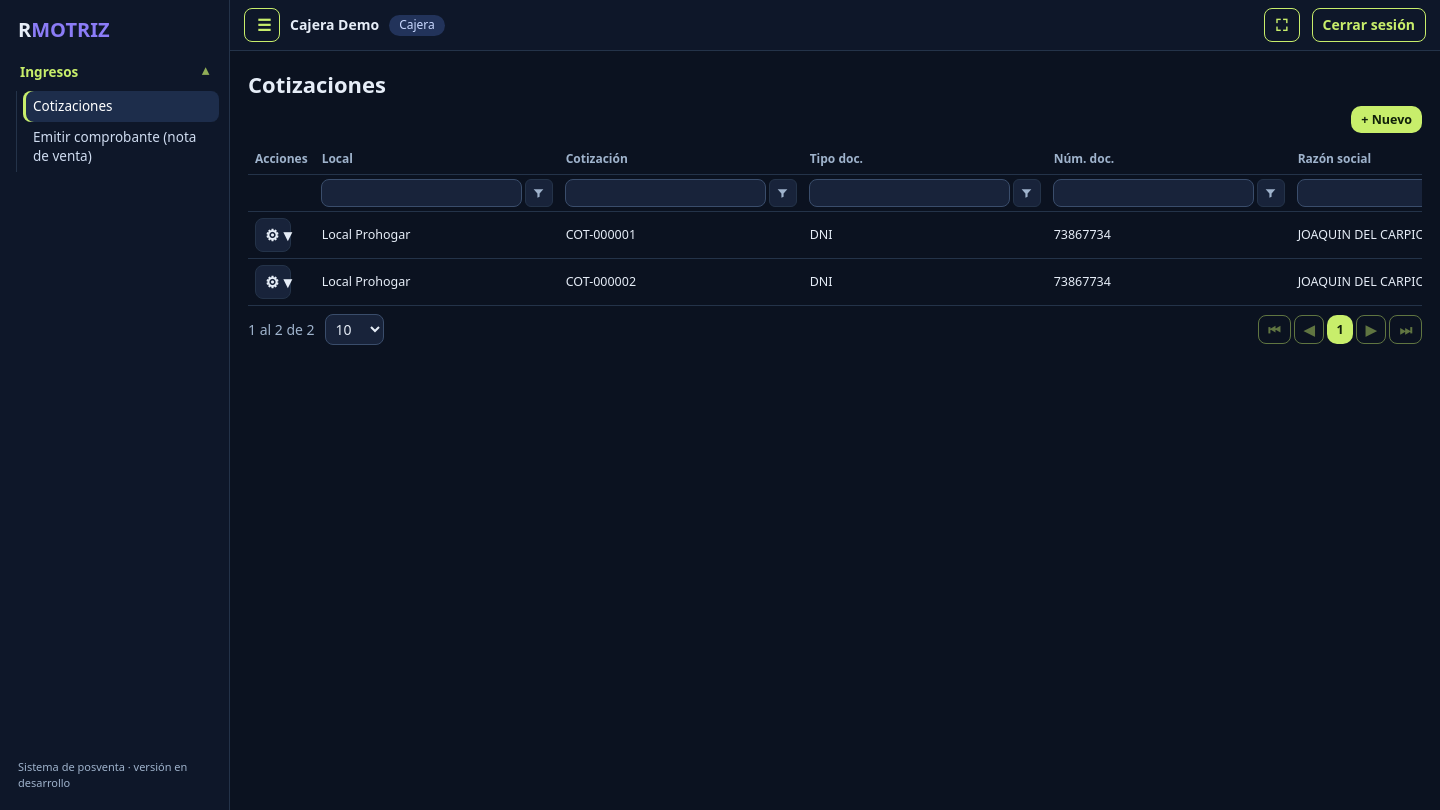
Test case: Cotizaciones: el formato es simple (sin tipo de IGV ni desglose, solo total y si los precios incluyen IGV) y el menú ofrece emitir, duplicar, editar y eliminar
The image size is (1440, 810).
Click the button named "Acciones". click: point(273, 235)
box: 255,218 -> 291,252
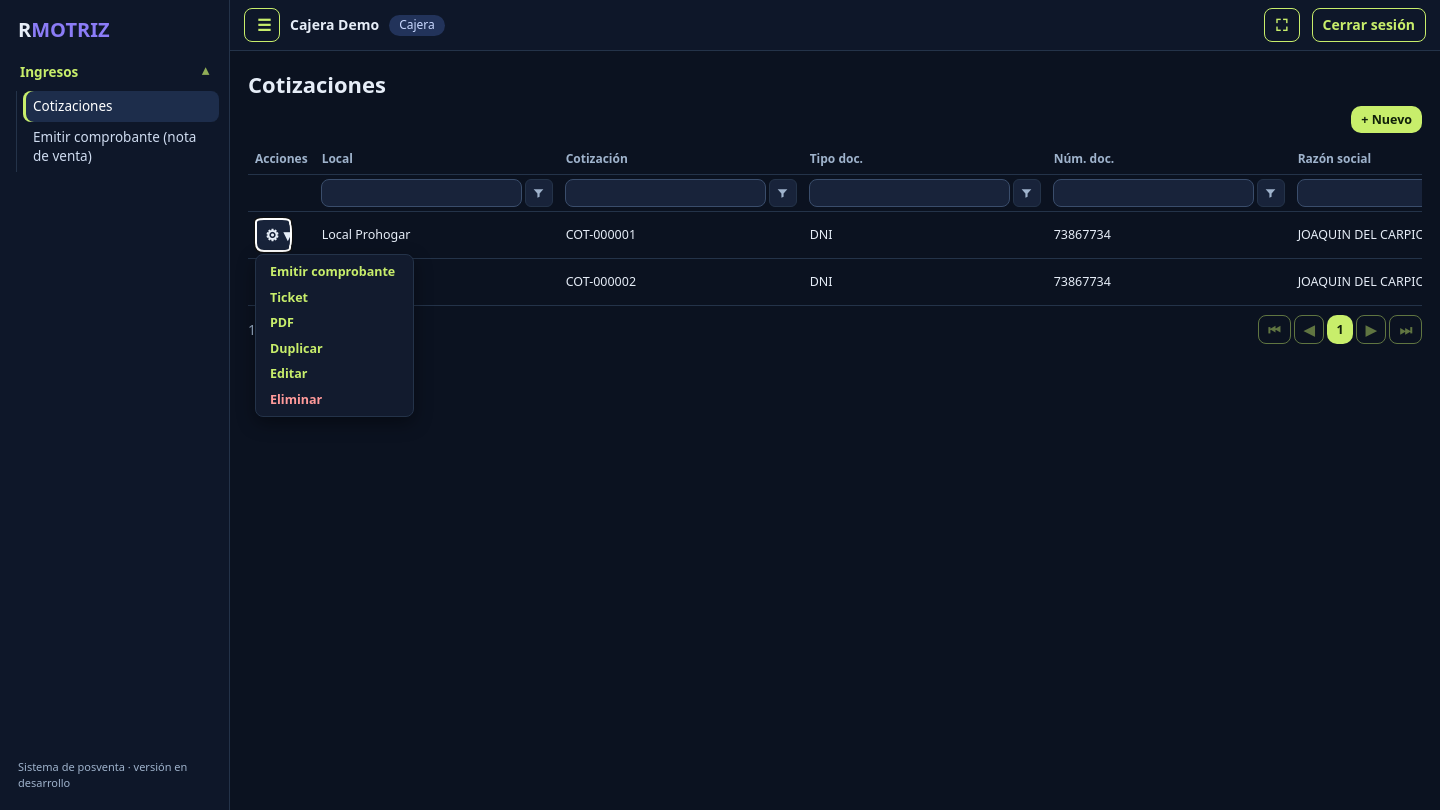
Result: the button "Emitir comprobante" is shown at 260,259 -> 405,285
Result: the button "Duplicar" is shown
Result: the button "Editar" is shown at 260,361 -> 405,387
Click the button "Duplicar". click: point(333, 348)
box: 260,336 -> 405,361
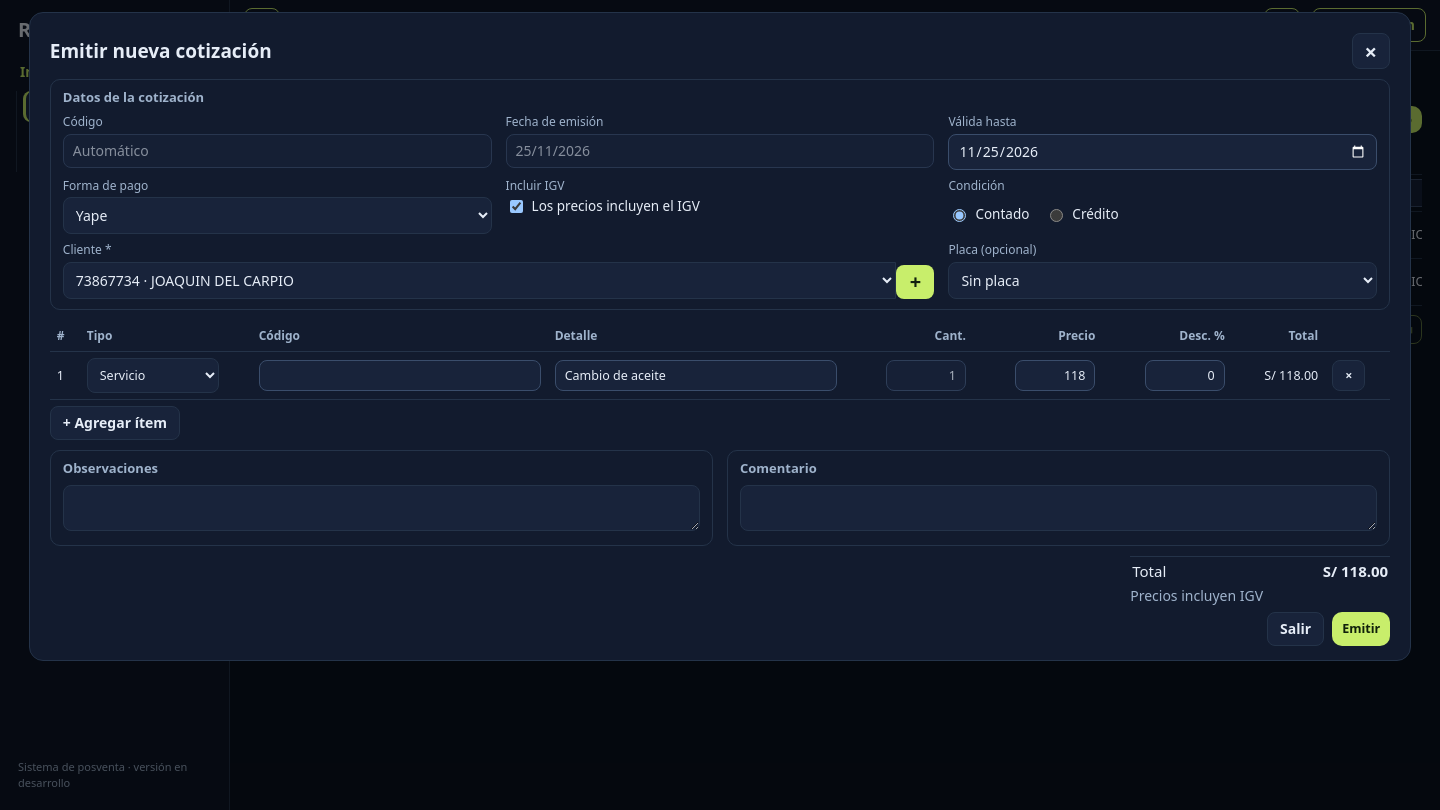
Result: the field named "Detalle del ítem 1" holds "Cambio de aceite" at 555,360 -> 837,391
Result: the element named "Totales" shows "Total S/ 118.00" at 1130,556 -> 1390,606
Result: the element named "Totales" shows "Precios incluyen IGV" at 1130,586 -> 1263,605
Click the checkbox labelled "Los precios incluyen el IGV". click: point(516, 207)
box: 510,200 -> 523,213
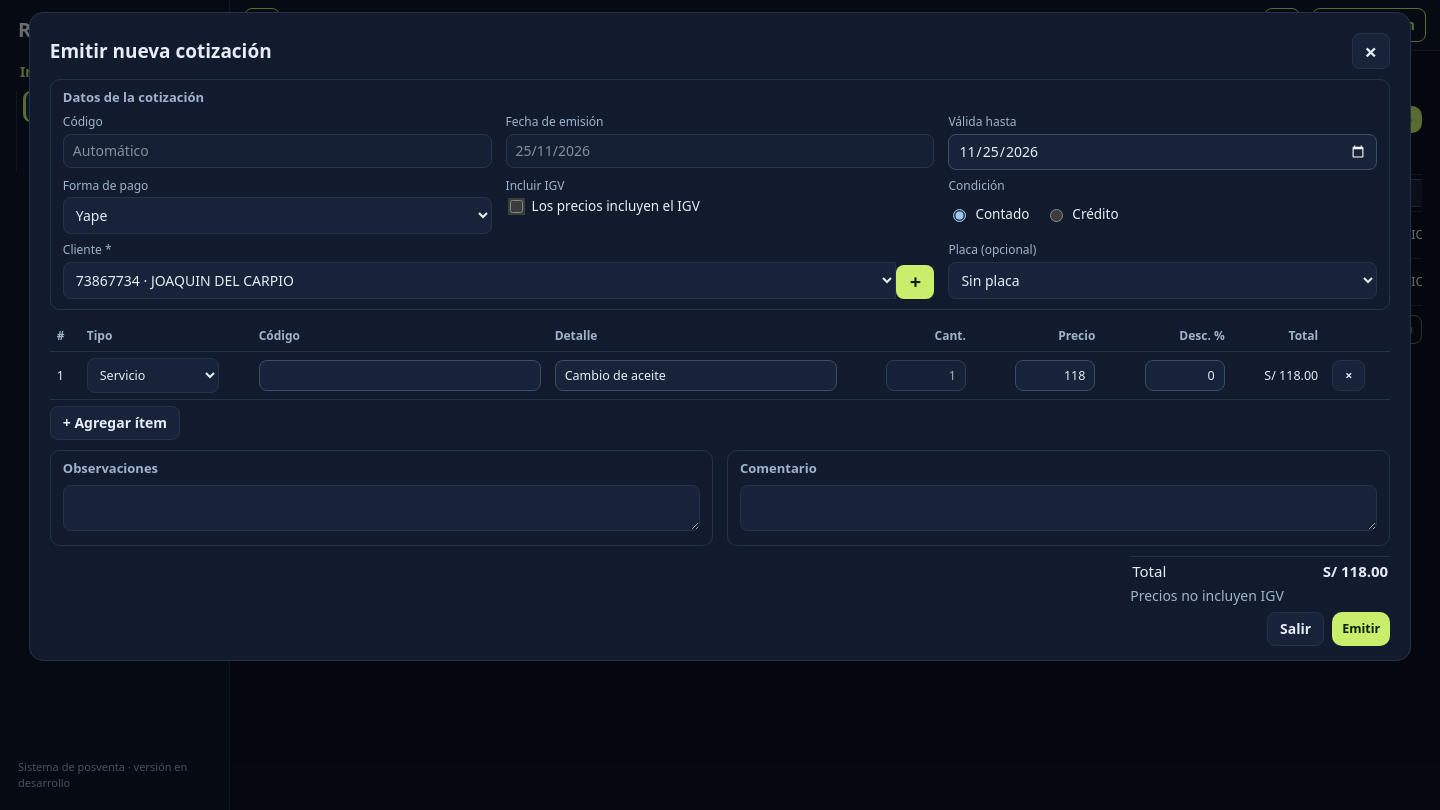
Result: the element named "Totales" shows "Precios no incluyen IGV" at 1130,586 -> 1284,605
